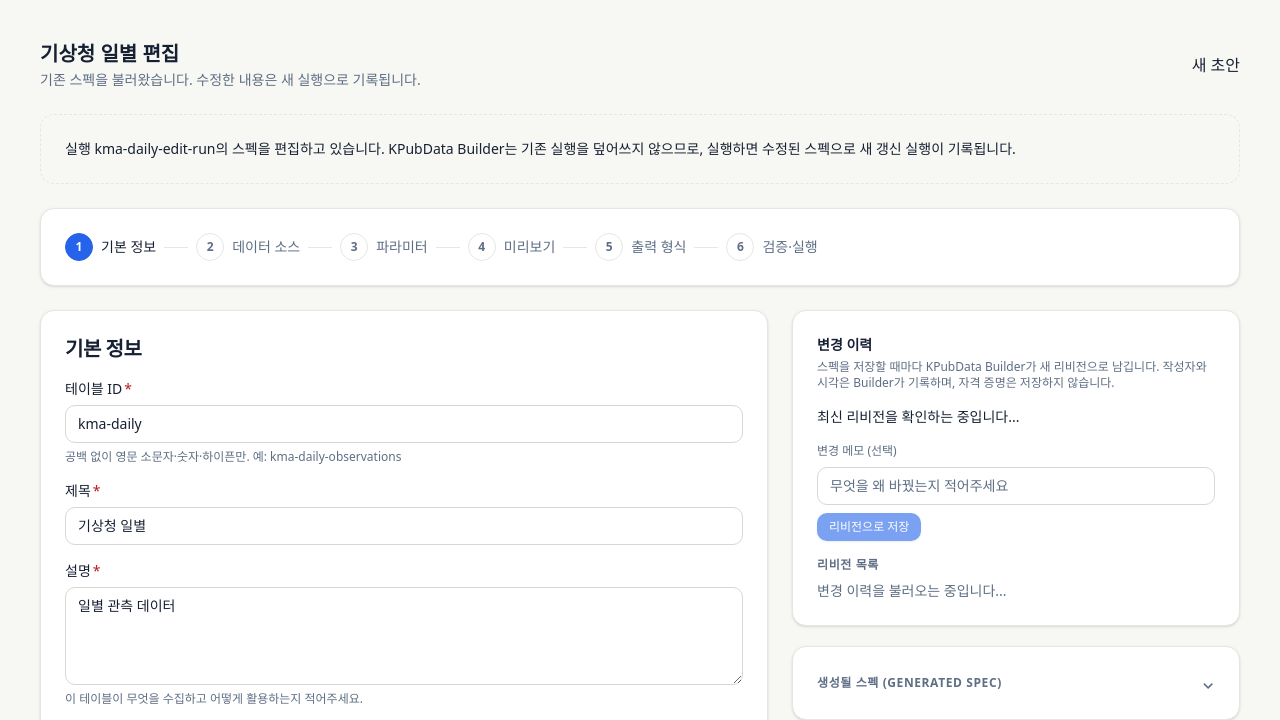
Test: Spec edit wizard › blocks advancing while required fields are empty
Expected: the heading "기본 정보" is shown, [65,335,141,362]
Clear the field labelled "테이블 ID*" at (404, 424), box [65,405,743,443]
(page scrolled)
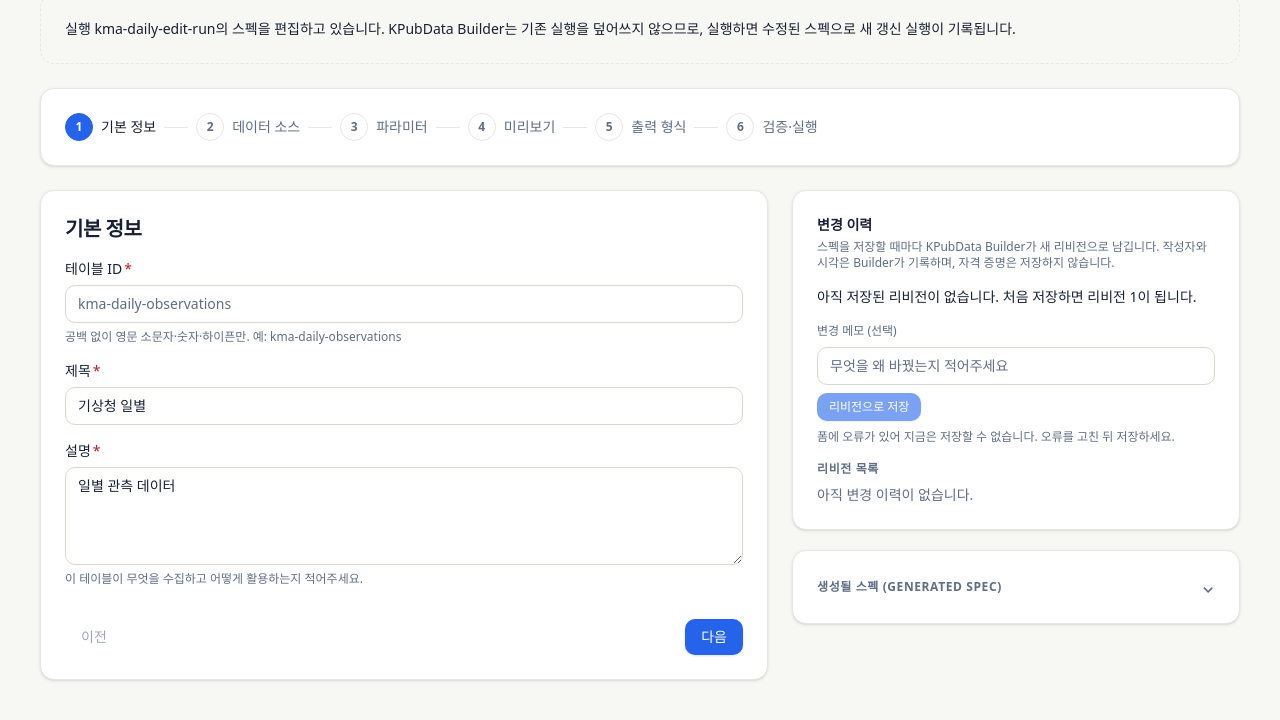
Click the button "다음" at (714, 637), box [685,619,743,655]
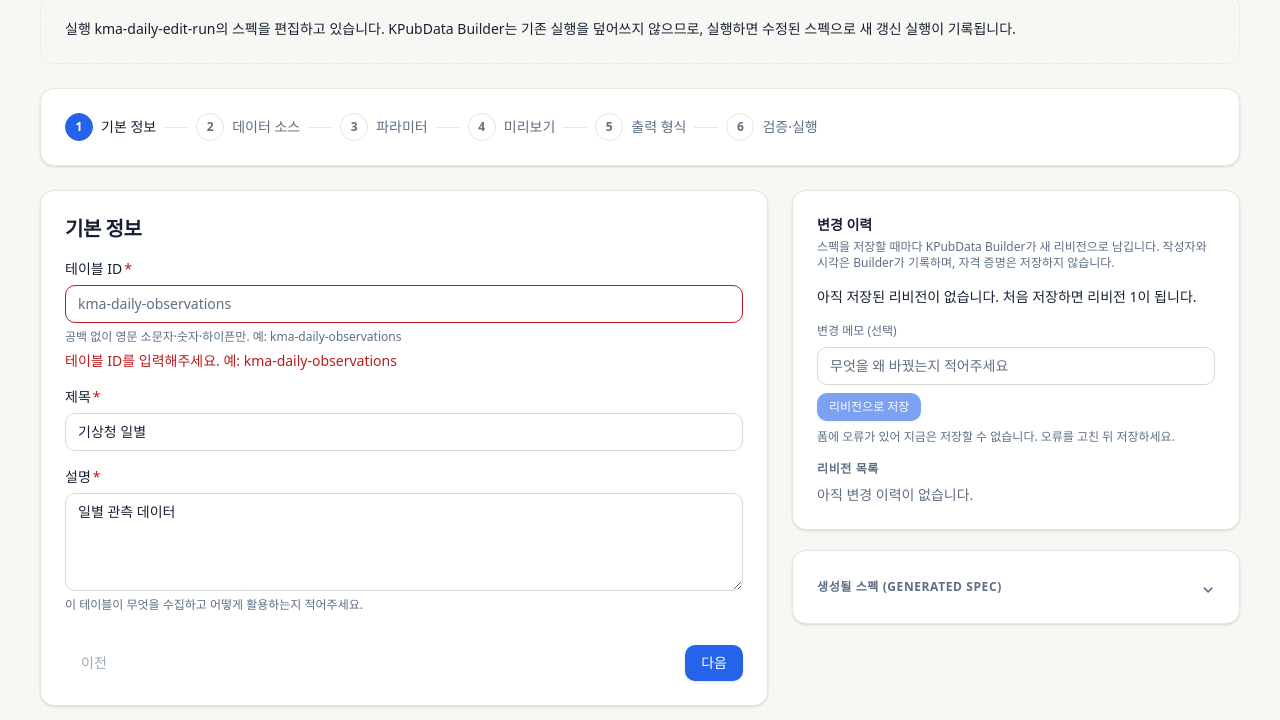
Expected: the heading "기본 정보" is shown, [65,215,141,242]
Result: the text "테이블 ID를 입력해주세요. 예: kma-daily-observations" is shown at [65,351,397,370]
